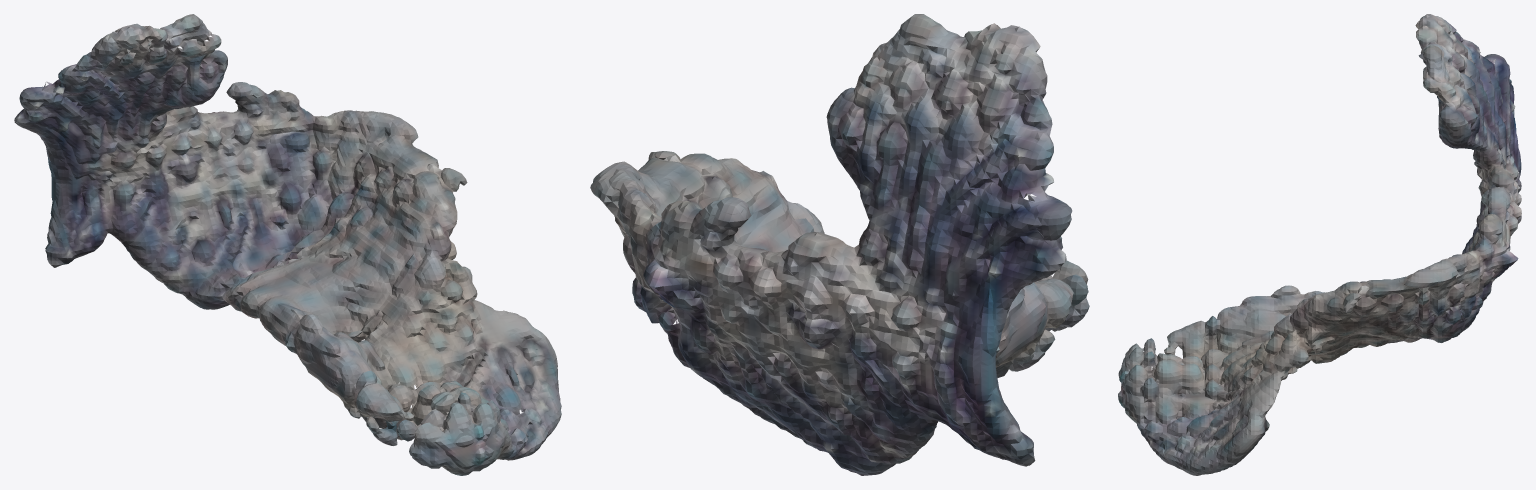
File: water.glb
The picture shows the model from 3 angles, left to right: view 1: azimuth 30°, elevation 25°; view 2: azimuth 150°, elevation 25°; view 3: azimuth 270°, elevation 25°; orthographic projection. The views are drawn at different scales.
Parts seen in each view (by area): view 1: world; view 2: world; view 3: world.
Boxes of the visible parts, x1,y1,x2,y2 form: world: (14, 14, 561, 475); world: (590, 14, 1089, 475); world: (1118, 14, 1521, 475).
Size of the model in its own units: 0.7198 by 0.6667 by 0.7214.
